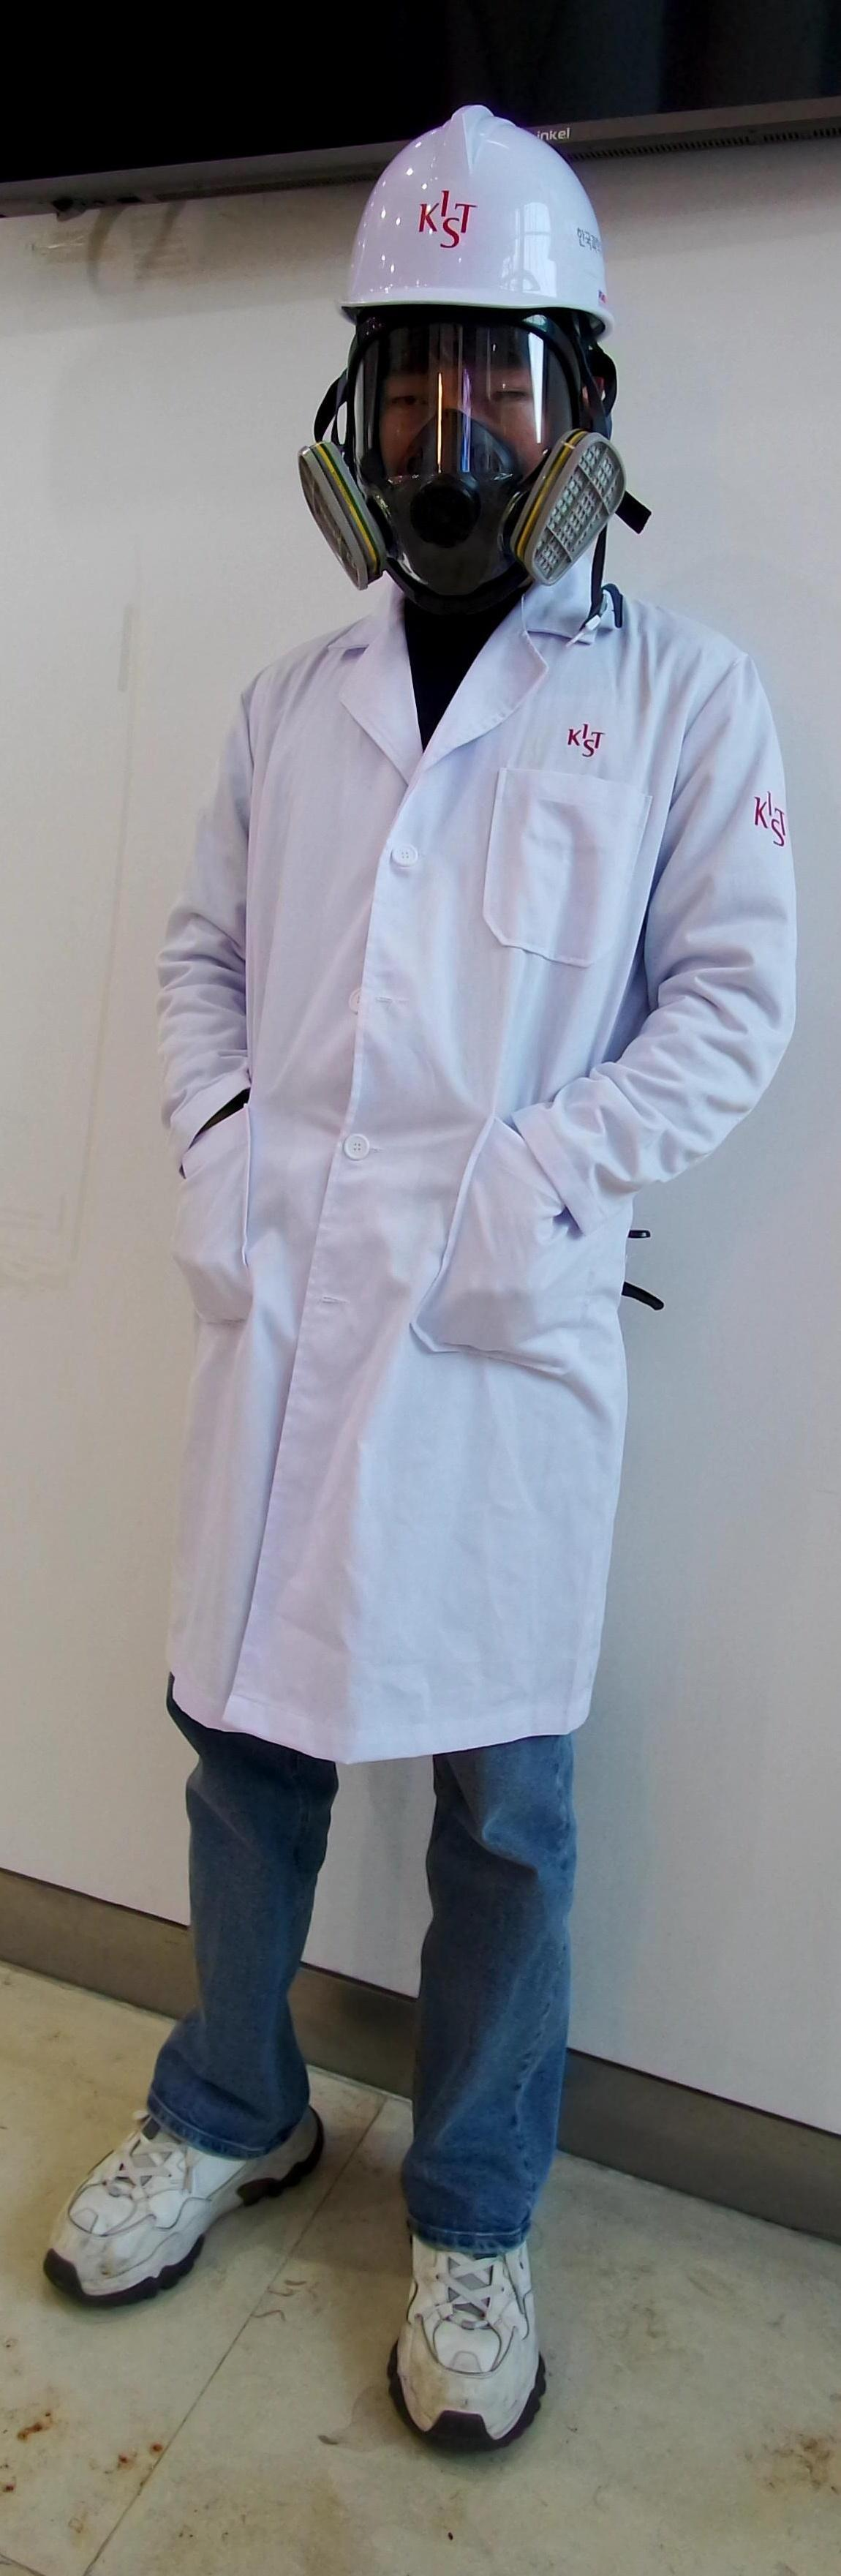lab_coat: (154, 609, 793, 1746)
